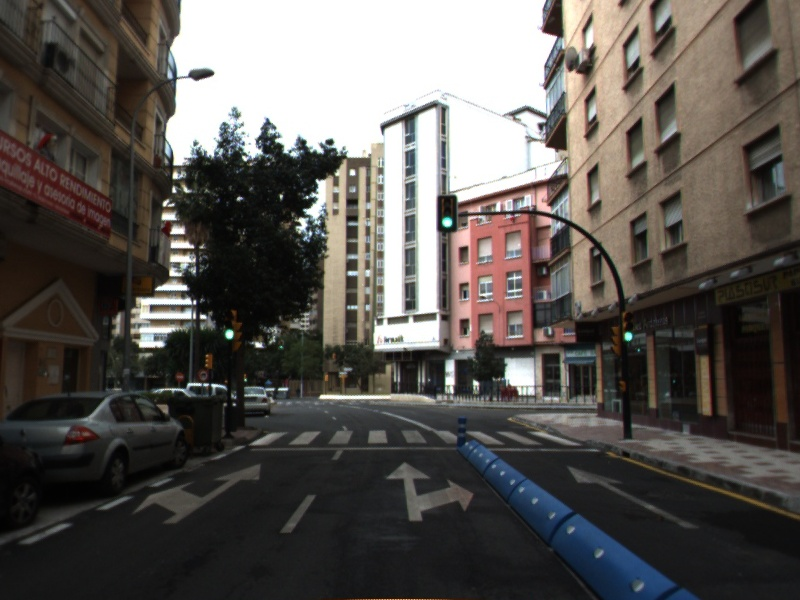STRAIGHT: (565, 463, 701, 531)
STRAIGHT_LEFT: (129, 461, 263, 527)
STRAIGHT_RIGHT: (383, 459, 477, 524)
